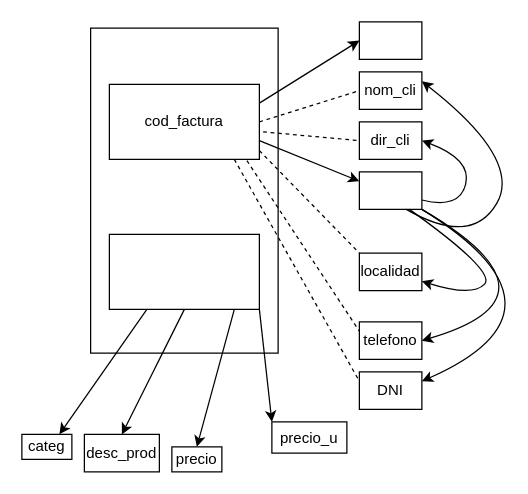
This 528x494 diagram has some shape labels left out. The shapes that lost their labels are listed below. From the top down, each one's box as (x1, y1, x2, y2) in pixels, then its label:
(358, 21, 422, 59): fecha
(358, 171, 422, 209): cod_cli
(108, 233, 259, 309): cod_producto
